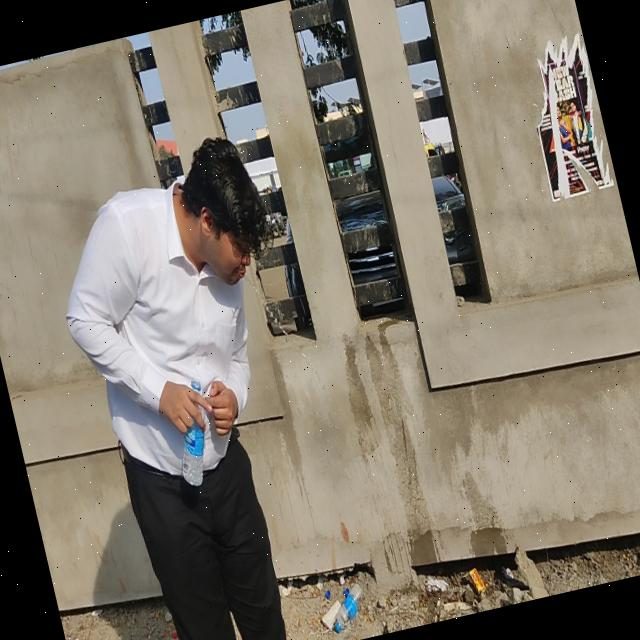spit: (155, 121, 356, 444)
